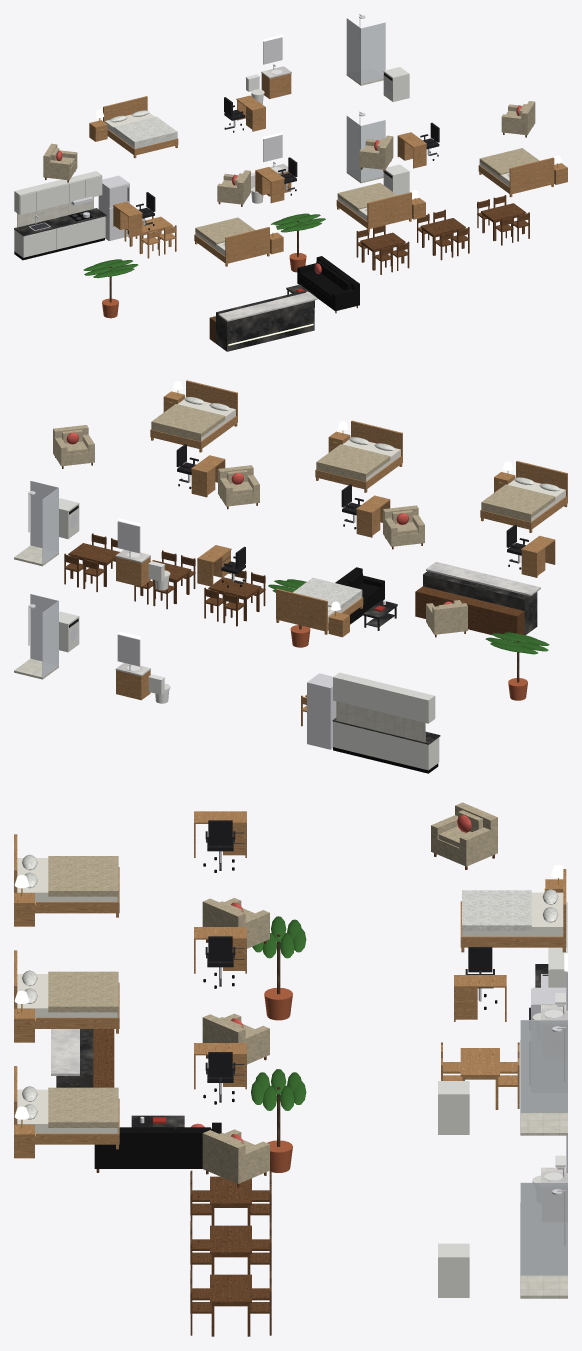
File: i_canadian_lodge.gltf
3 renders of one model, top to bottom at view 1: azimuth 30°, elevation 25°; view 2: azimuth 150°, elevation 25°; view 3: azimuth 270°, elevation 25°, orthographic. The views are drawn at different scales.
Visible parts, largest first — view 1: I_canadian_lodge; view 2: I_canadian_lodge; view 3: I_canadian_lodge.
Part boxes in pixels (x1,y1,x2,y2): I_canadian_lodge: (14,14,567,351); I_canadian_lodge: (14,380,567,773); I_canadian_lodge: (14,802,567,1336).
Size of the model in its own units: 16 by 5.45 by 10.49.
27 materials, 9 textured.
